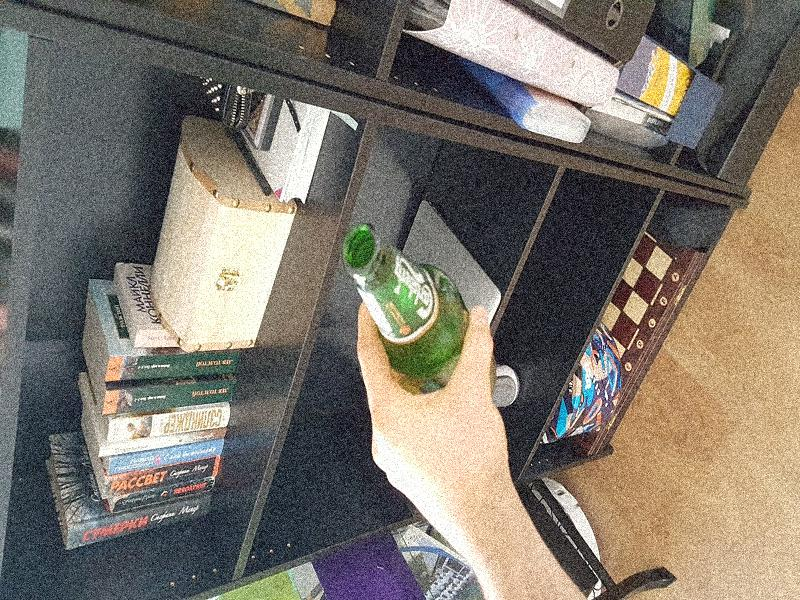Beer: (343, 222, 496, 405)
